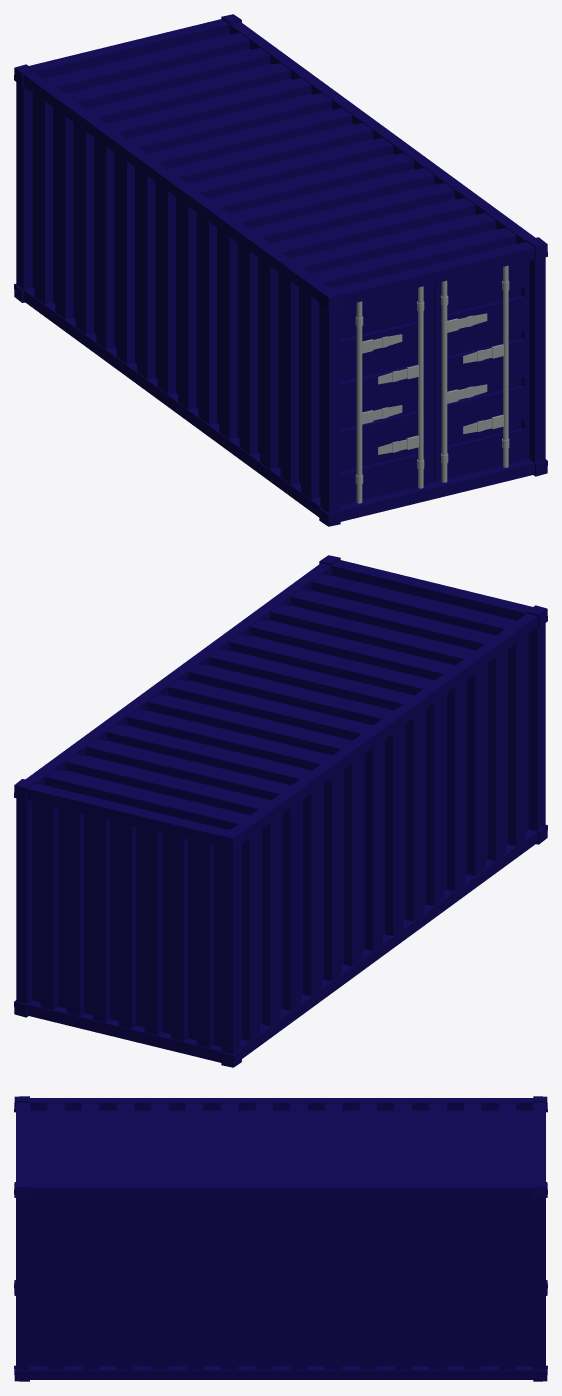
The model's file is Container.fbx.
3 renders of one model, top to bottom at view 1: azimuth 30°, elevation 25°; view 2: azimuth 150°, elevation 25°; view 3: azimuth 270°, elevation 25°, orthographic. The views are drawn at different scales.
Visible parts, largest first — view 1: Estrutura, Ferros; view 2: Estrutura; view 3: Estrutura.
Part boxes in pixels (x1,y1,x2,y2): Estrutura: (14, 14, 547, 526); Ferros: (355, 265, 509, 503); Estrutura: (14, 555, 547, 1067); Estrutura: (14, 1096, 547, 1381).
Size of the model in its own units: 244 by 244 by 604.
